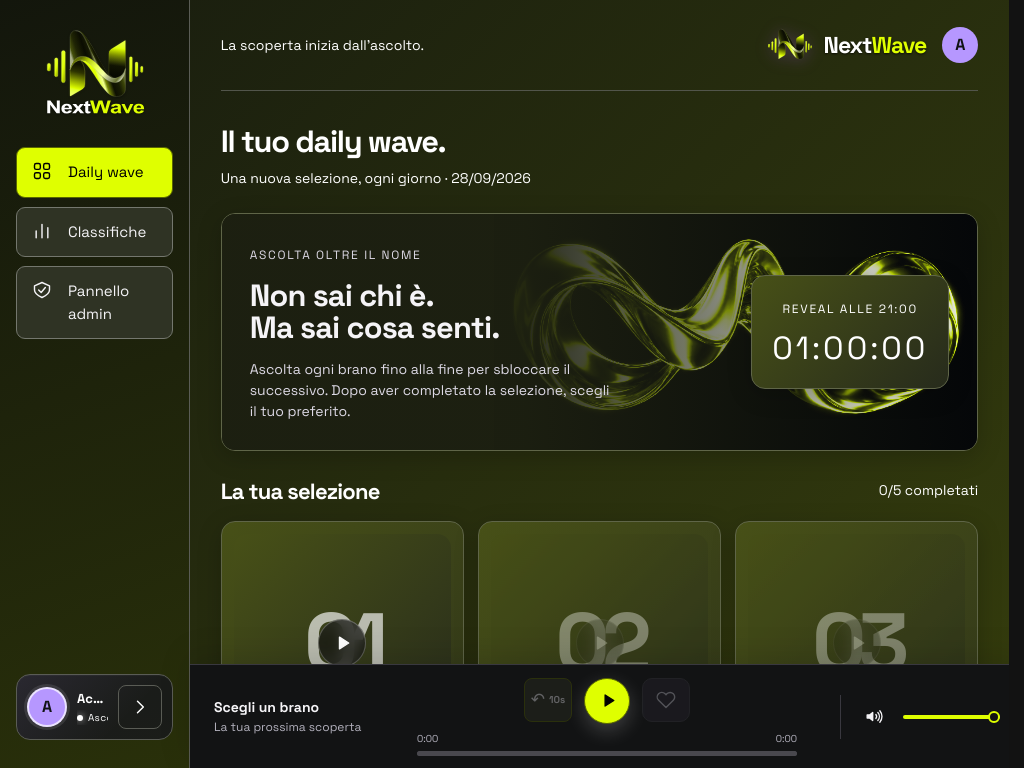
Test: account cloud › mostra il pannello e protegge il superadmin dalla revoca
Expected: the navigation bar named "Navigazione principale" is shown, [16, 147, 173, 339]
Expected: the heading "La tua selezione" is shown, [221, 479, 380, 503]
What coordinates should you click on to do the following:
click the link "Pannello admin"
I would click on:
 (94, 303)
Its box is [16, 266, 173, 339].
(page scrolled)
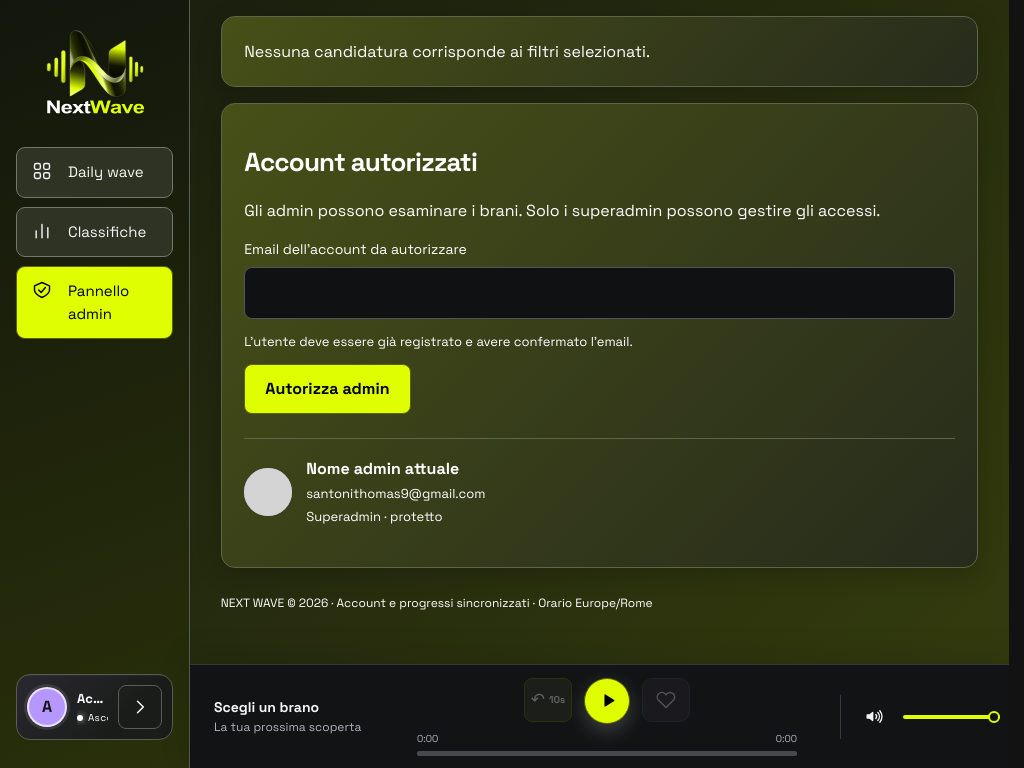
Expected: the text "santonithomas9@gmail.com" is shown, [306, 484, 486, 504]
Expected: the text "Superadmin · protetto" is shown, [306, 508, 442, 525]
Expected: the text "Nome admin attuale" is shown, [306, 457, 486, 481]
